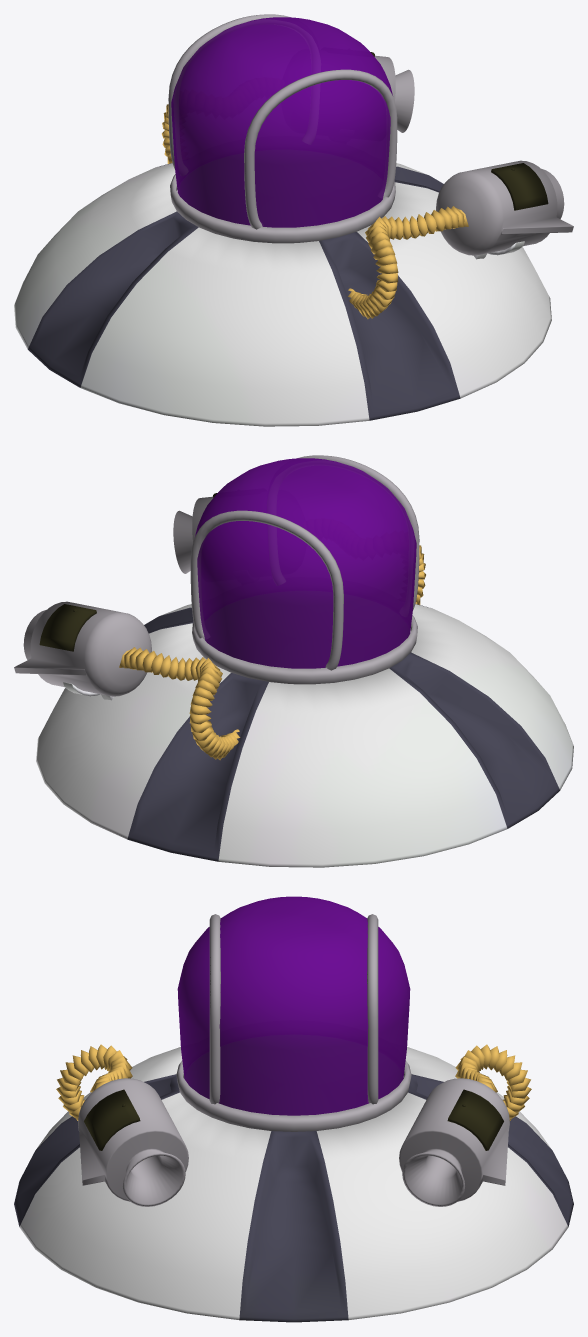
File: starship.glb
3 views of the same model, one above another, from view 1: azimuth 30°, elevation 25°; view 2: azimuth 150°, elevation 25°; view 3: azimuth 270°, elevation 25° (orthographic). The views are drawn at different scales.
Visible parts, largest first — view 1: Sphere.001, Sphere.002, Cylinder, NurbsPath.004, Cube, Sphere.005, Cylinder.002; view 2: Sphere.001, Sphere.002, Cylinder, NurbsPath.004, Cube, Sphere.005, Cylinder.002; view 3: Sphere.001, Sphere.002, Cylinder, Cube, NurbsPath.004, Sphere.005, Cylinder.002.
Boxes of the visible parts, left/top/right/bottom form: Sphere.001: left=14, top=163, right=551, bottom=426; Sphere.002: left=171, top=17, right=392, bottom=227; Cylinder: left=374, top=55, right=573, bottom=255; NurbsPath.004: left=168, top=14, right=397, bottom=229; Cube: left=162, top=104, right=468, bottom=319; Sphere.005: left=170, top=174, right=395, bottom=243; Cylinder.002: left=370, top=52, right=548, bottom=210; Sphere.001: left=36, top=604, right=573, bottom=867; Sphere.002: left=195, top=458, right=416, bottom=668; Cylinder: left=14, top=496, right=213, bottom=696; NurbsPath.004: left=190, top=455, right=419, bottom=670; Cube: left=119, top=545, right=425, bottom=760; Sphere.005: left=192, top=615, right=417, bottom=684; Cylinder.002: left=39, top=493, right=217, bottom=651; Sphere.001: left=14, top=1047, right=573, bottom=1322; Sphere.002: left=177, top=896, right=410, bottom=1115; Cylinder: left=78, top=1078, right=509, bottom=1206; Cube: left=56, top=1044, right=531, bottom=1120; NurbsPath.004: left=209, top=914, right=378, bottom=1104; Sphere.005: left=176, top=1060, right=411, bottom=1131; Cylinder.002: left=84, top=1089, right=503, bottom=1150.
Bounding box in the file's own units: 1.96 × 1.29 × 1.96.
Materials: 7 (1 with a texture image).
